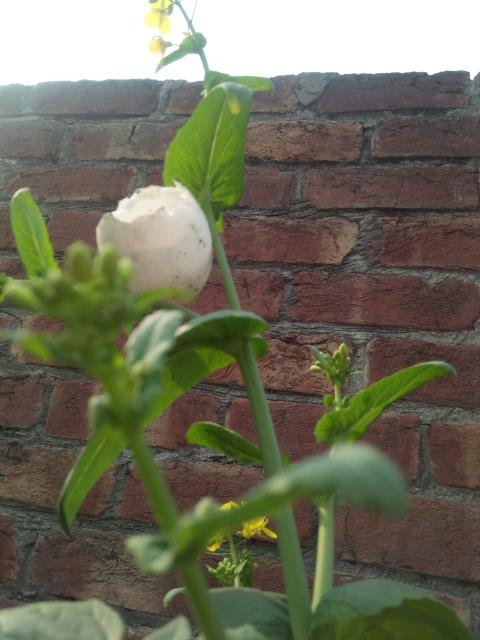Roto: (95, 179, 214, 304)
